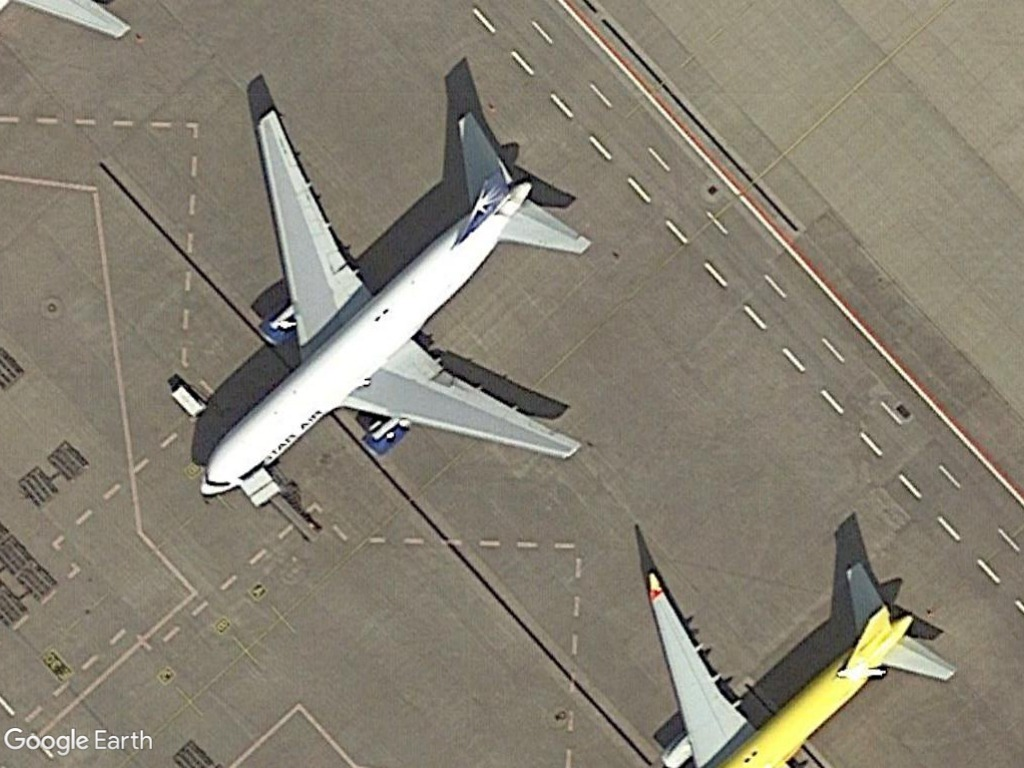airliner: (196, 102, 595, 503)
